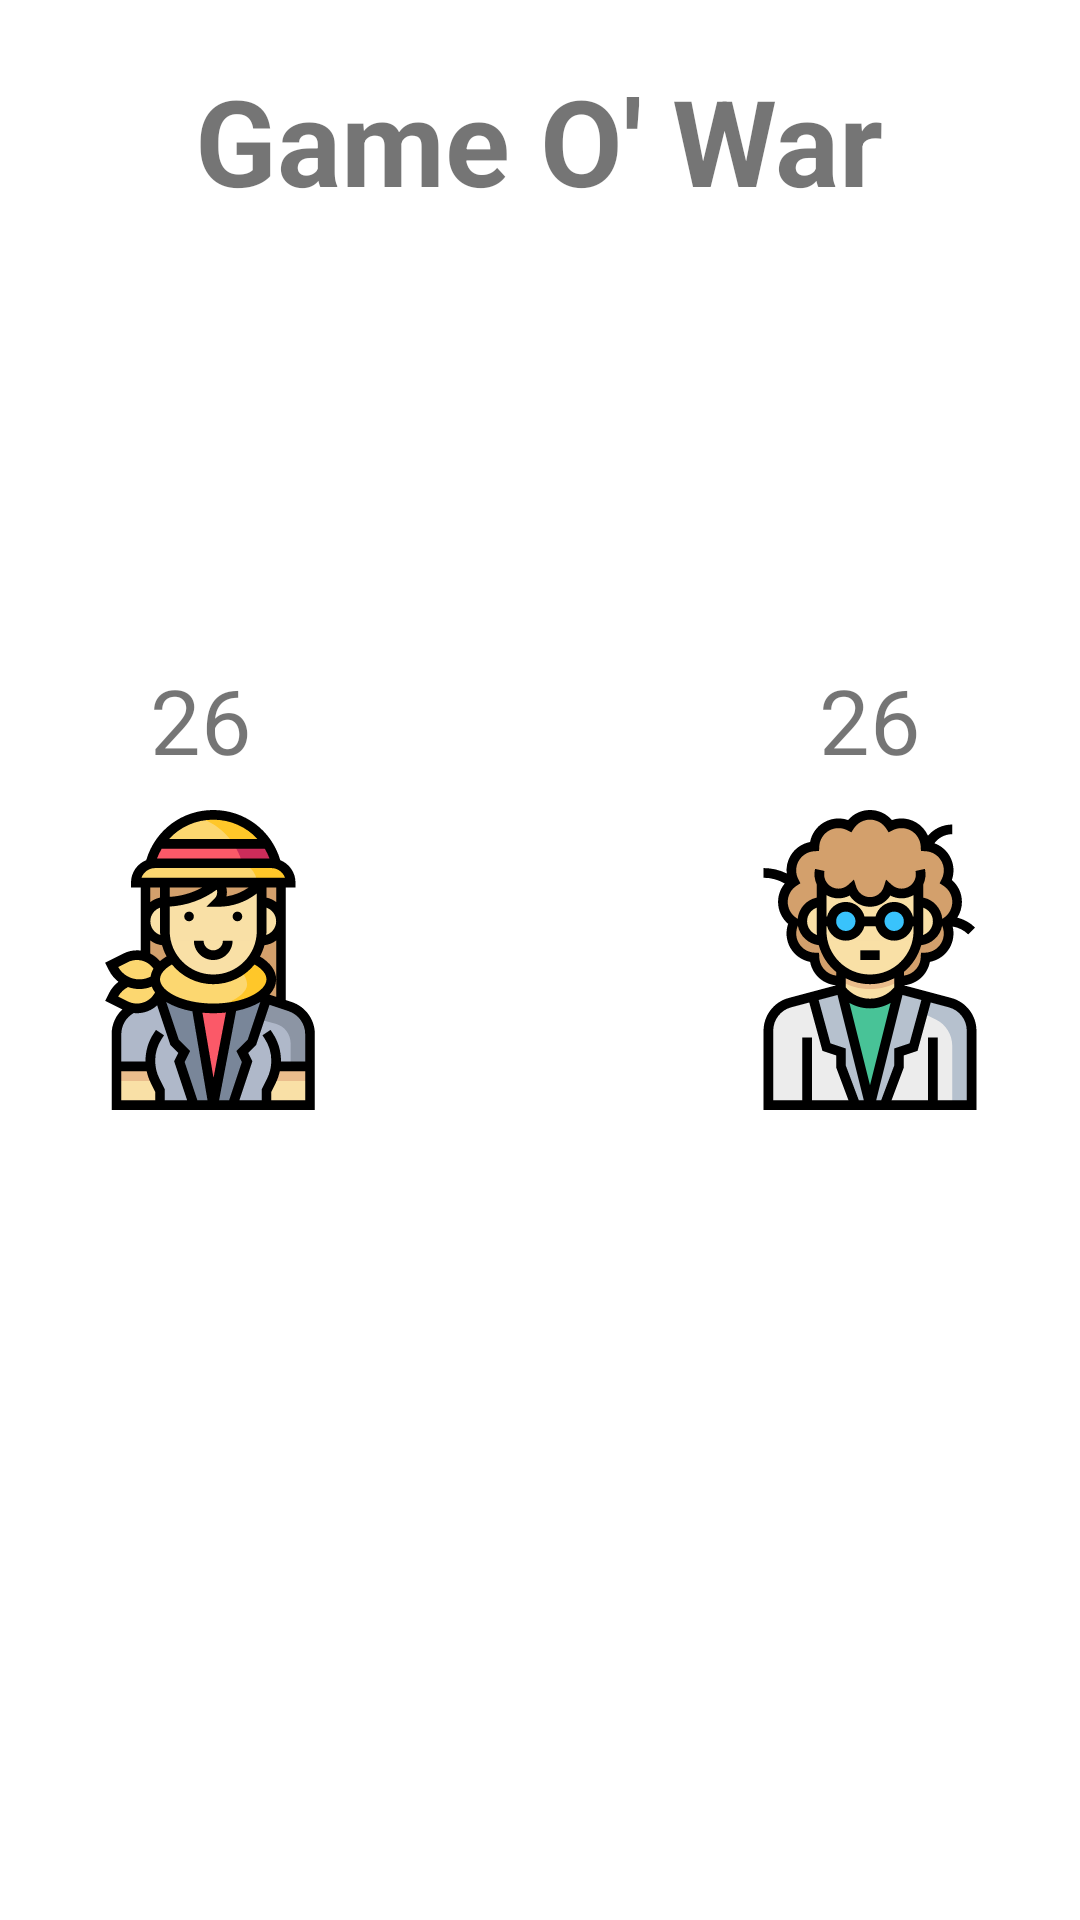

Named icons in this screenshot (1080 × 1920) and their bounding boxes, bbox=[x1, y1, x2, y2]:
character: bbox=[105, 810, 315, 1110], bbox=[763, 810, 977, 1110]
